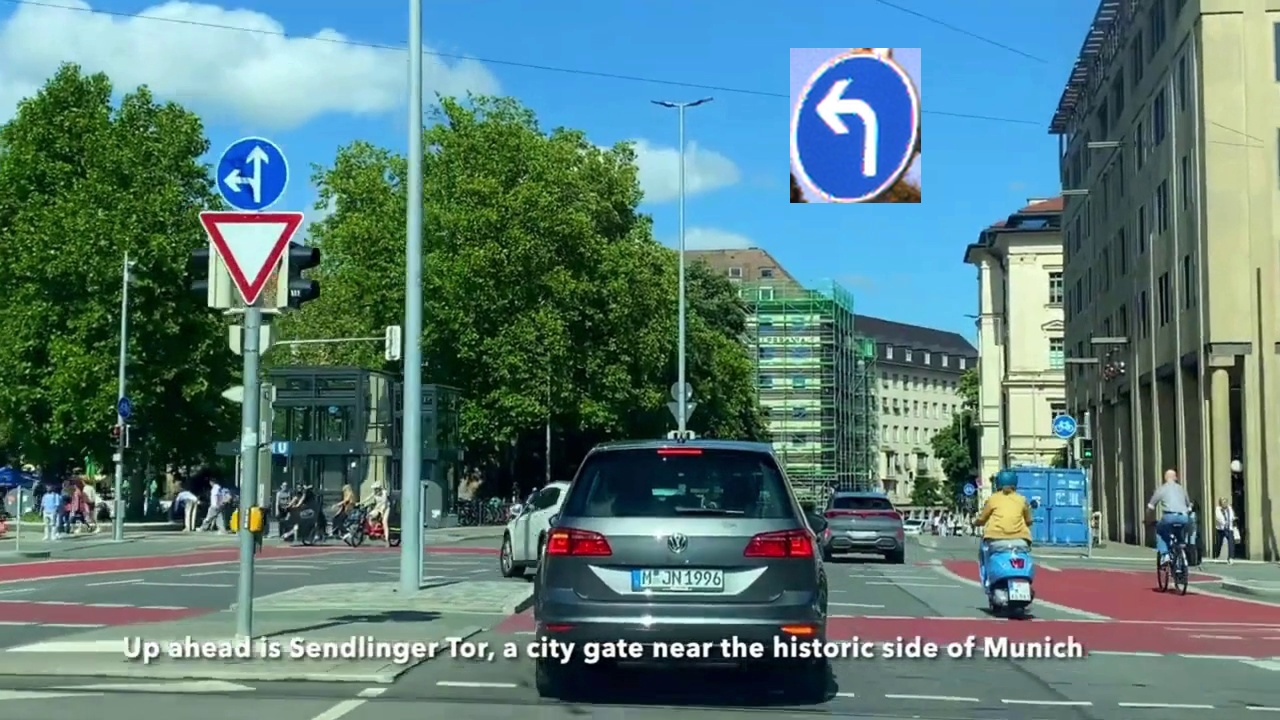Turn left: (790, 48, 921, 203)
